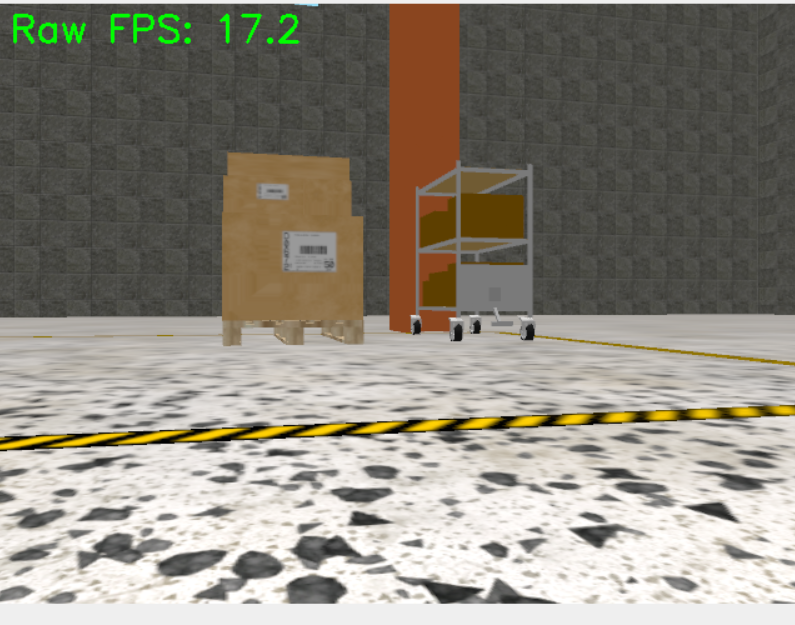barcode: (281, 230, 337, 272), (255, 182, 290, 202)
